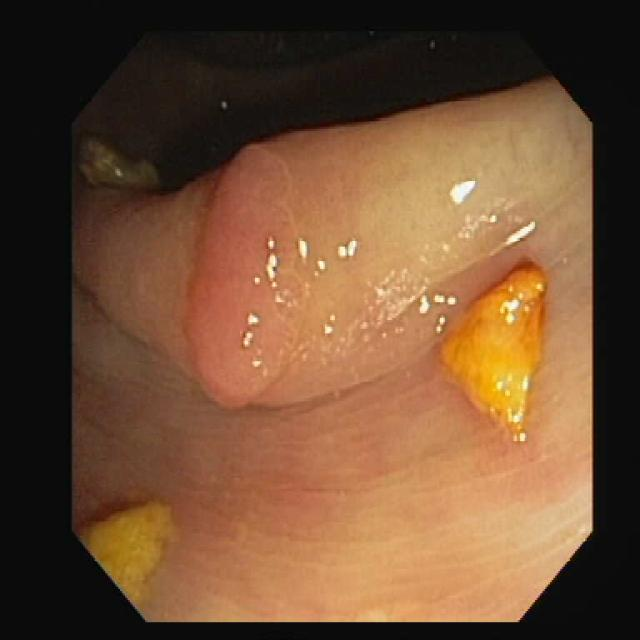tumor: (188, 144, 303, 398)
